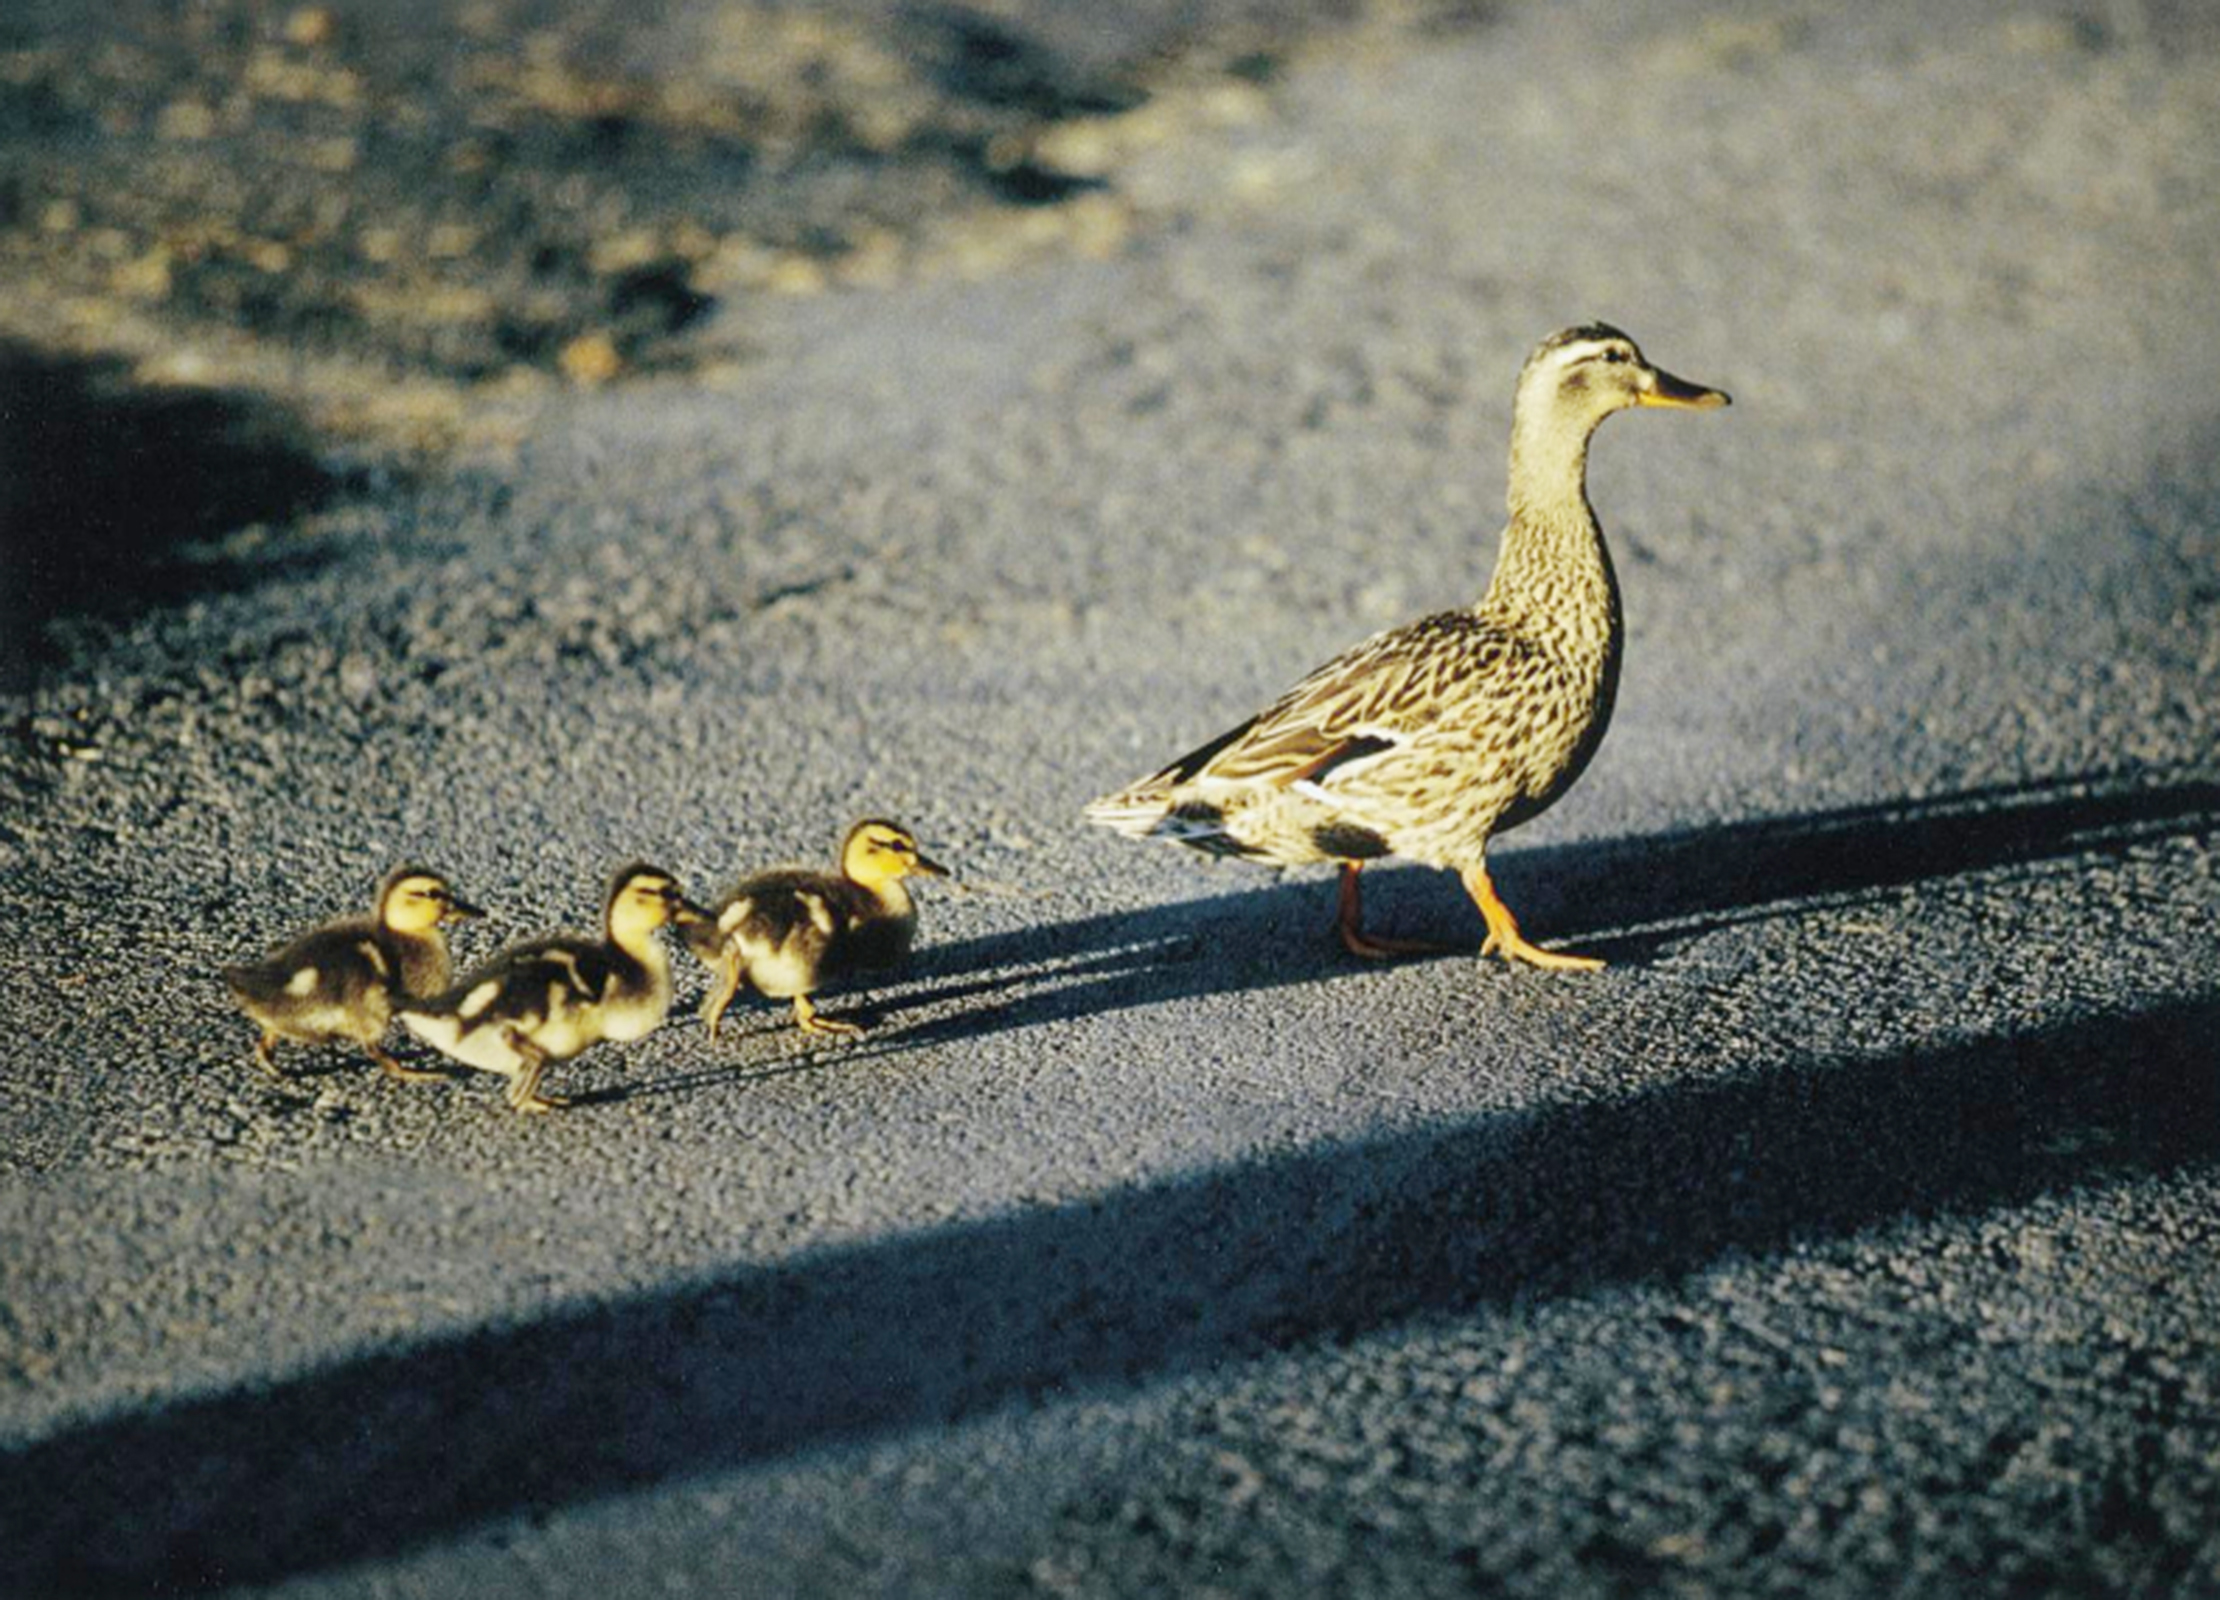duck: (1127, 307, 1736, 991)
duckling: (412, 871, 672, 1133), (681, 812, 941, 1067), (229, 878, 469, 1102)
